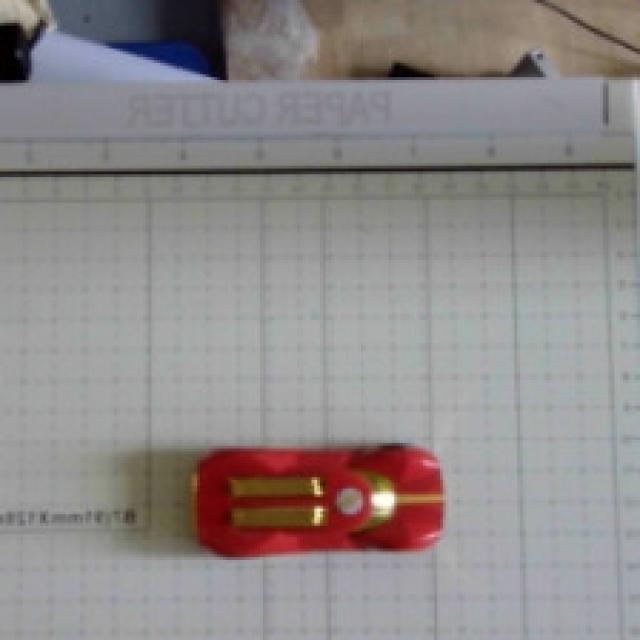Red Car: (145, 392, 468, 593)
